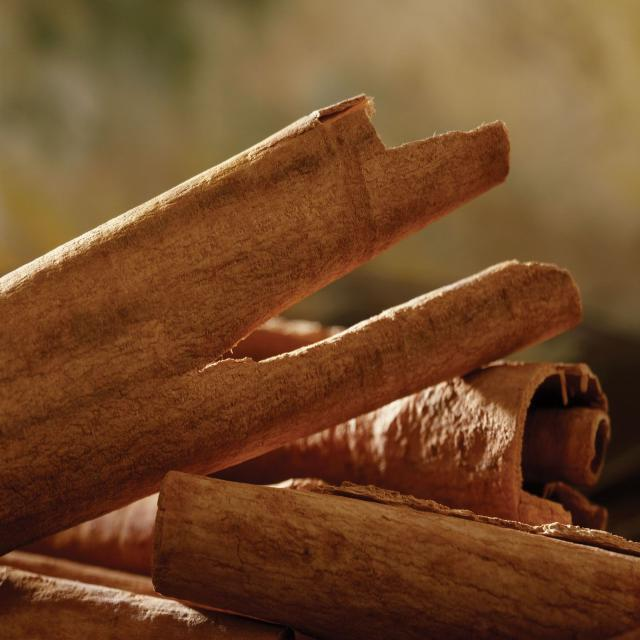Cinnamon: (0, 94, 510, 450), (0, 261, 580, 551), (152, 471, 640, 638), (488, 426, 490, 430)
